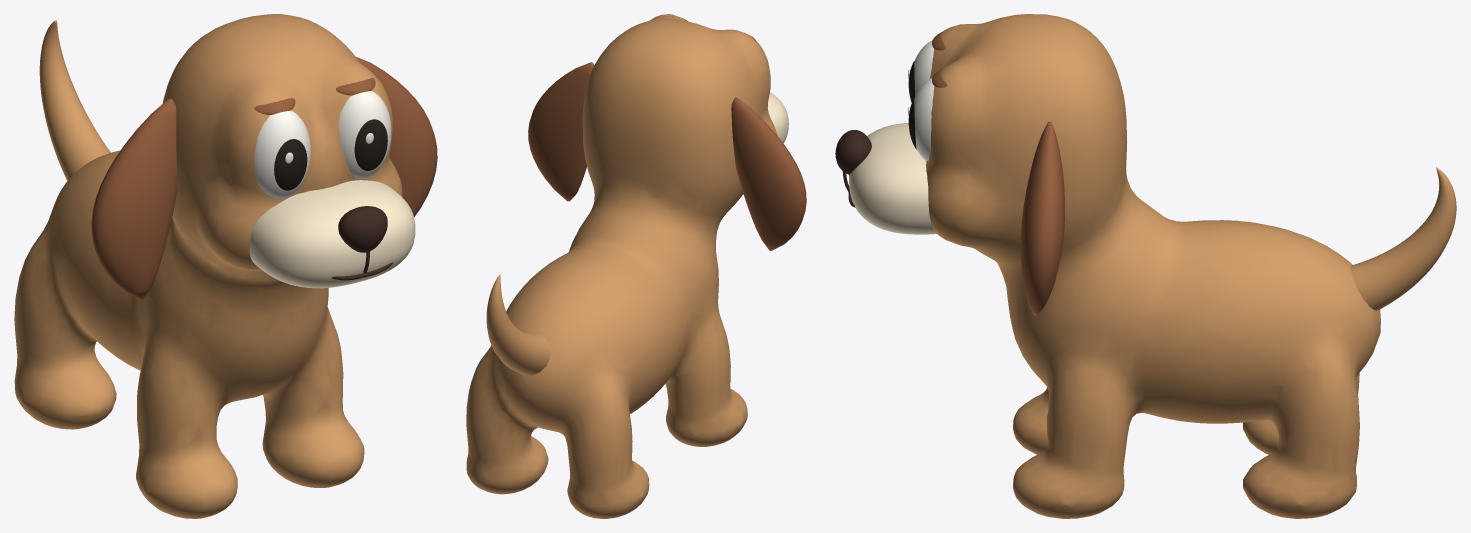
Rendered from puppy.glb.
The picture shows the model from 3 angles, left to right: view 1: azimuth 30°, elevation 25°; view 2: azimuth 150°, elevation 25°; view 3: azimuth 270°, elevation 25°; orthographic projection. The views are drawn at different scales.
Visible parts, largest first — view 1: Body and head — continuous static surface, Broad cream muzzle, Right floppy ear, Tapered tail, Left floppy ear, Embedded eye white -1, Embedded eye white 1, Soft triangular nose, Eye pupil -1, Eye pupil 1; view 2: Body and head — continuous static surface, Right floppy ear, Left floppy ear, Tapered tail, Broad cream muzzle; view 3: Body and head — continuous static surface, Broad cream muzzle, Left floppy ear, Tapered tail, Embedded eye white 1, Soft triangular nose.
Boxes of the visible parts, x1,y1,x2,y2 form: Body and head — continuous static surface: (14, 14, 402, 518); Broad cream muzzle: (249, 180, 415, 288); Right floppy ear: (91, 98, 176, 299); Tapered tail: (39, 20, 110, 180); Left floppy ear: (356, 57, 437, 216); Embedded eye white -1: (254, 110, 310, 198); Embedded eye white 1: (338, 91, 391, 179); Soft triangular nose: (338, 206, 387, 252); Eye pupil -1: (274, 139, 307, 190); Eye pupil 1: (354, 119, 387, 170); Body and head — continuous static surface: (466, 14, 777, 518); Right floppy ear: (731, 97, 806, 250); Left floppy ear: (528, 62, 594, 201); Tapered tail: (486, 274, 550, 375); Broad cream muzzle: (767, 92, 788, 143); Body and head — continuous static surface: (926, 14, 1380, 518); Broad cream muzzle: (849, 123, 936, 234); Left floppy ear: (1020, 121, 1064, 315); Tapered tail: (1350, 167, 1456, 310); Embedded eye white 1: (914, 78, 934, 161); Soft triangular nose: (835, 130, 871, 174).
Bounding box in the file's own units: 2.17 × 2.92 × 3.59.
